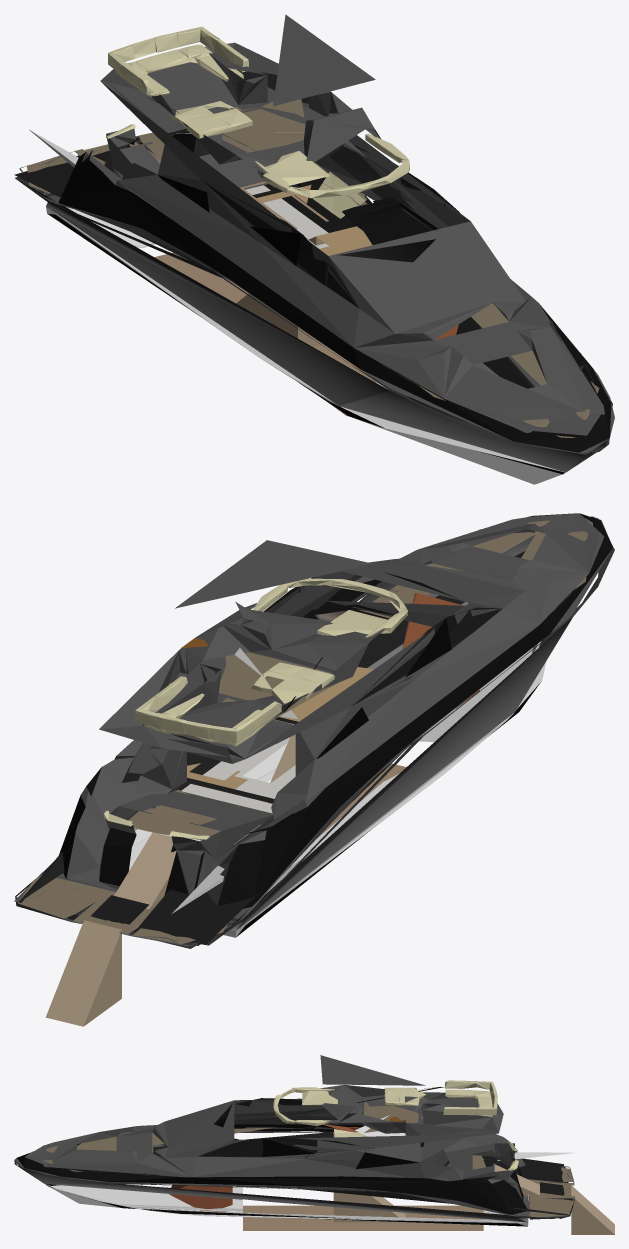
File: lux-yacht.access-v14.lod2.glb
3 renders of one model, top to bottom at view 1: azimuth 30°, elevation 25°; view 2: azimuth 150°, elevation 25°; view 3: azimuth 270°, elevation 25°, orthographic. The views are drawn at different scales.
Parts seen in each view (by area): view 1: Object_4; view 2: Object_4; view 3: Object_4.
Boxes of the visible parts, x1,y1,x2,y2 form: Object_4: (14, 14, 614, 484); Object_4: (14, 513, 614, 1026); Object_4: (14, 1055, 614, 1234).
Size of the model in its own units: 8.48 by 11.32 by 38.45.
